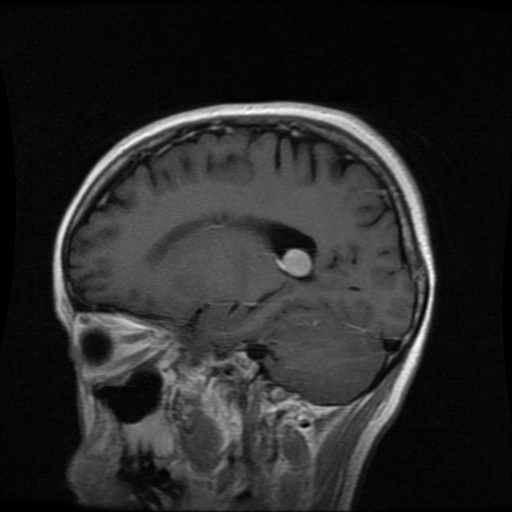meningioma: (279, 248, 311, 277)
